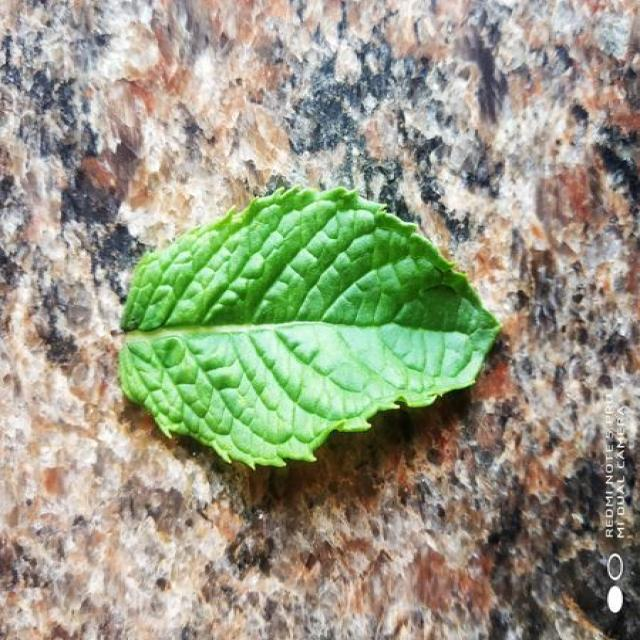mint: (122, 188, 500, 467)
